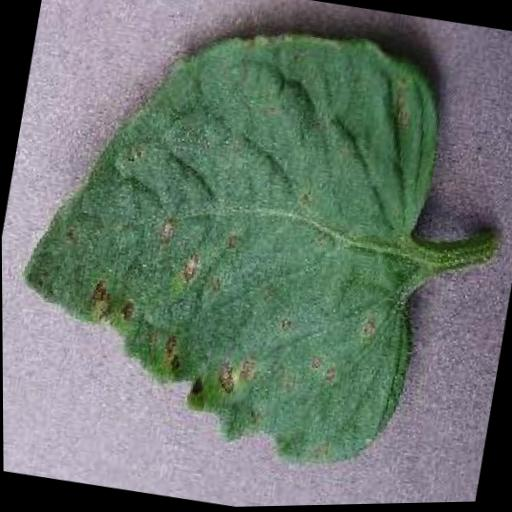Septoria: (0, 0, 462, 481)
